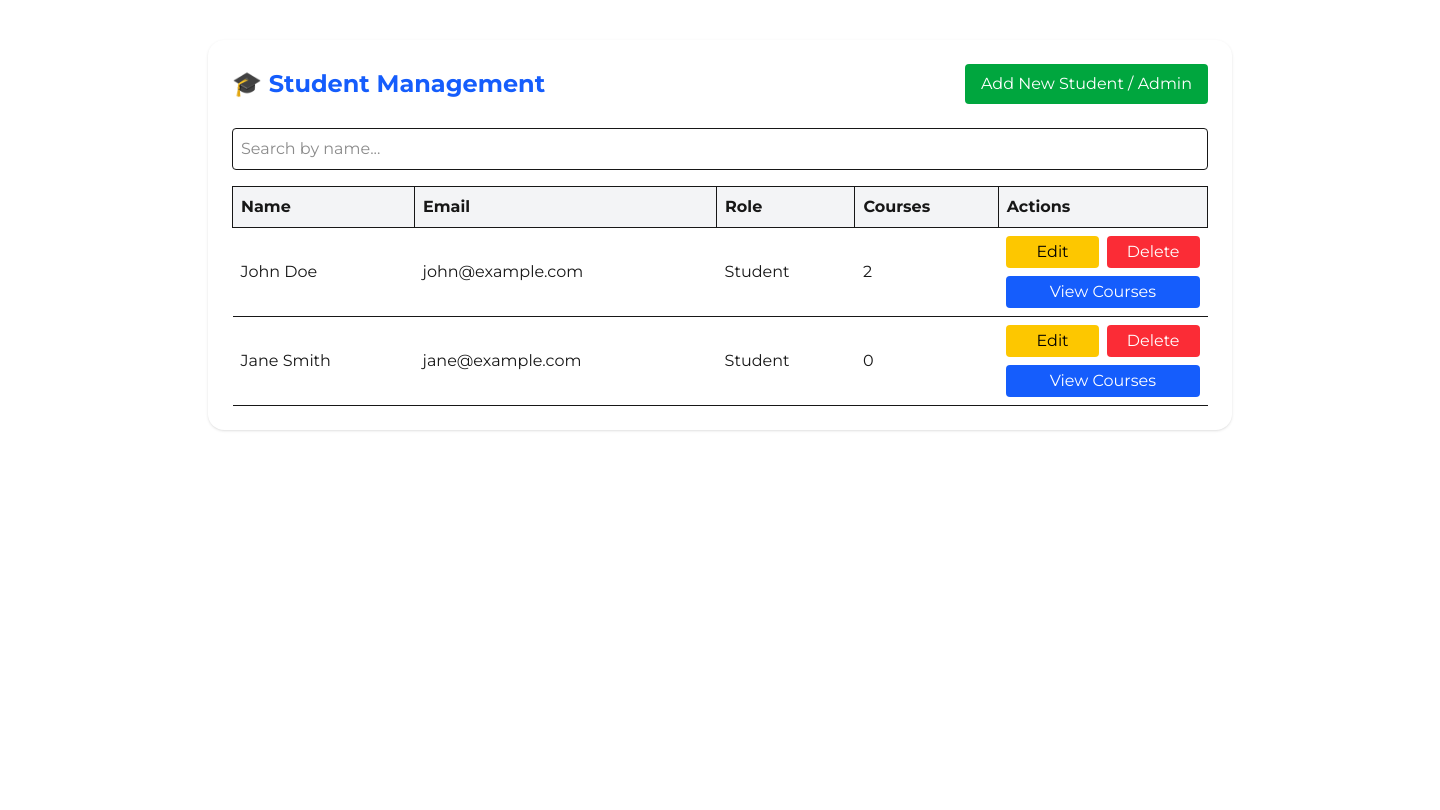
Test: StudentManagement Page › handles view courses flow
Check: the text "John Doe" is shown, box [232, 228, 414, 316]
What coordinates should you click on to do the following:
click the button "View Courses" in the row of "John Doe"
I would click on:
 (1103, 292)
Its box is [1006, 276, 1200, 308].
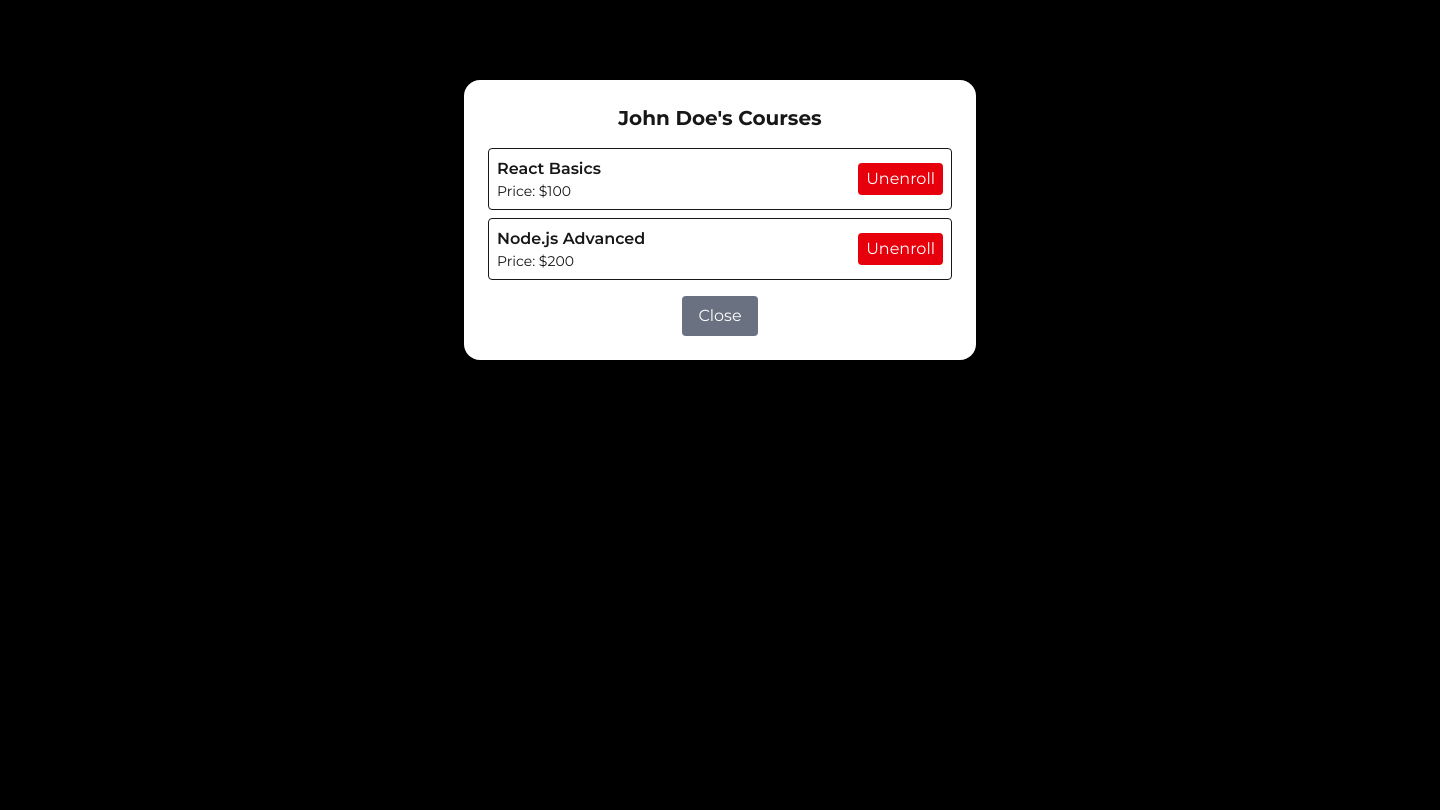
Check: the text "React Basics" is shown, box [497, 157, 601, 181]
Check: the text "Node.js Advanced" is shown, box [497, 227, 645, 251]
